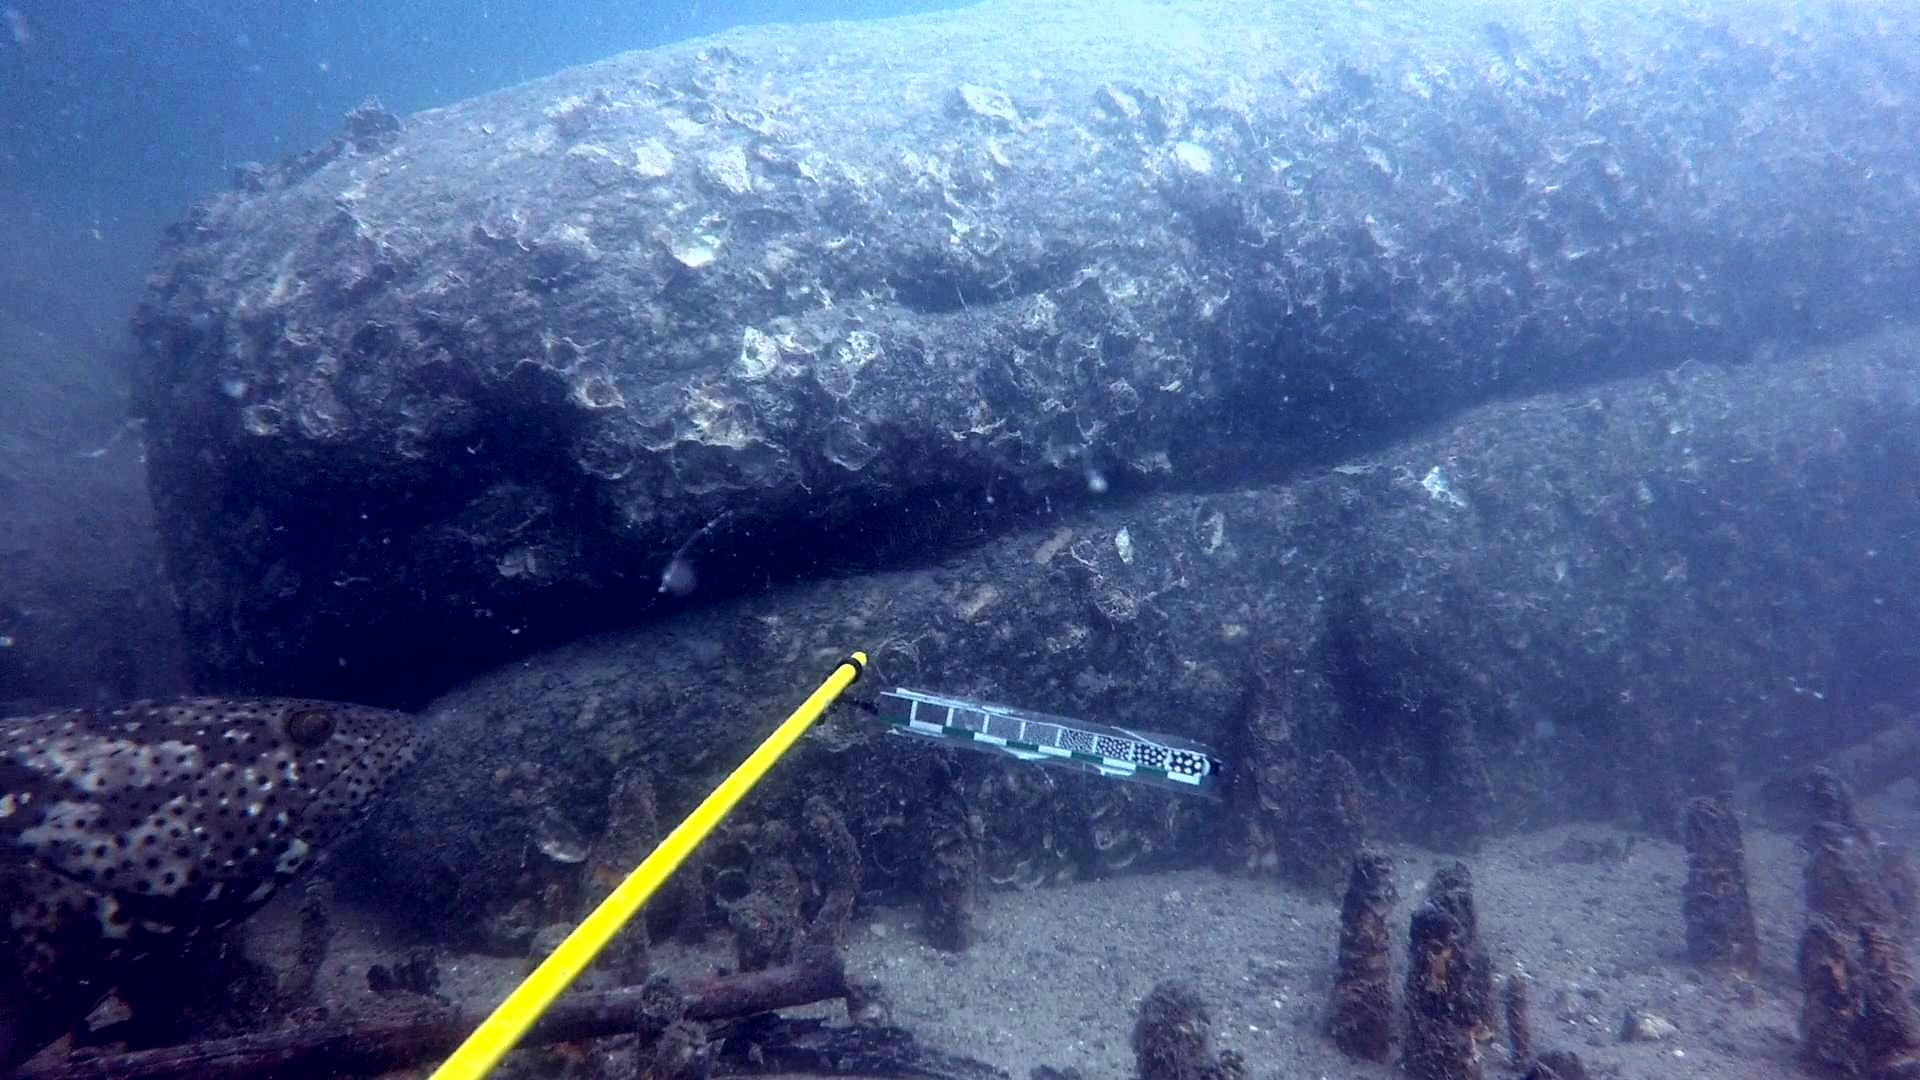epinephelus: (0, 692, 442, 1080)
